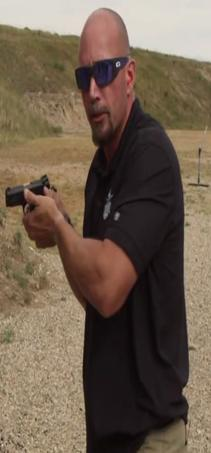pistol: (5, 174, 56, 246)
